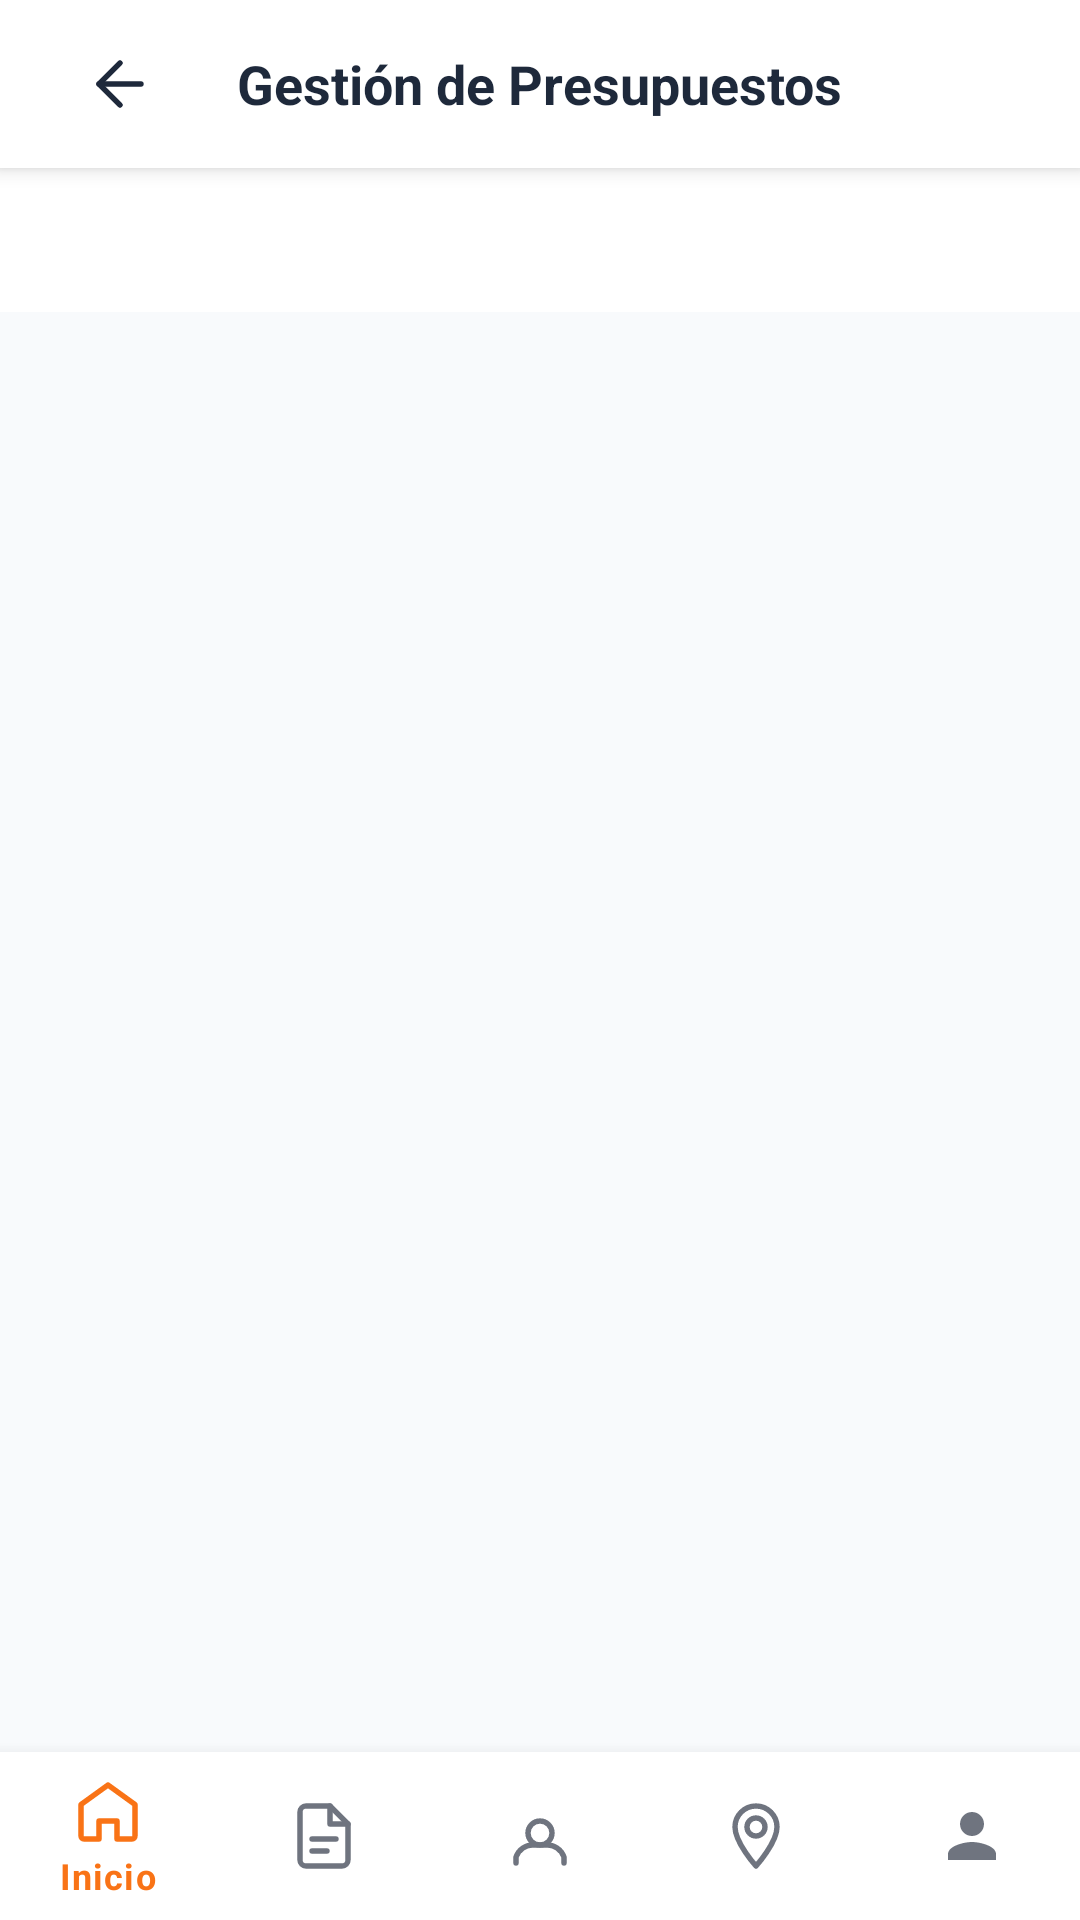

Locate icon controls on the screen. Image size 1080px x 1920px, boxes as (left=x1, top=y1, right=x2, bottom=y2).
arrow back: (left=96, top=60, right=144, bottom=108)
